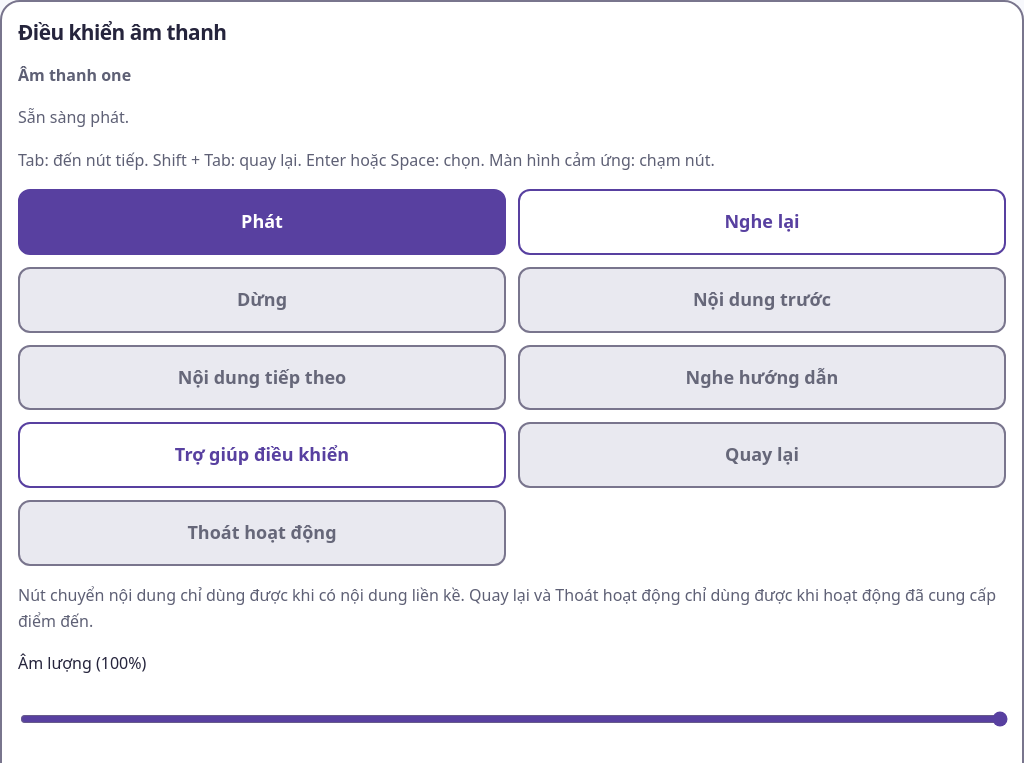
it: keeps focus and exposes busy state while loading; stop cancels the source
Press Tab
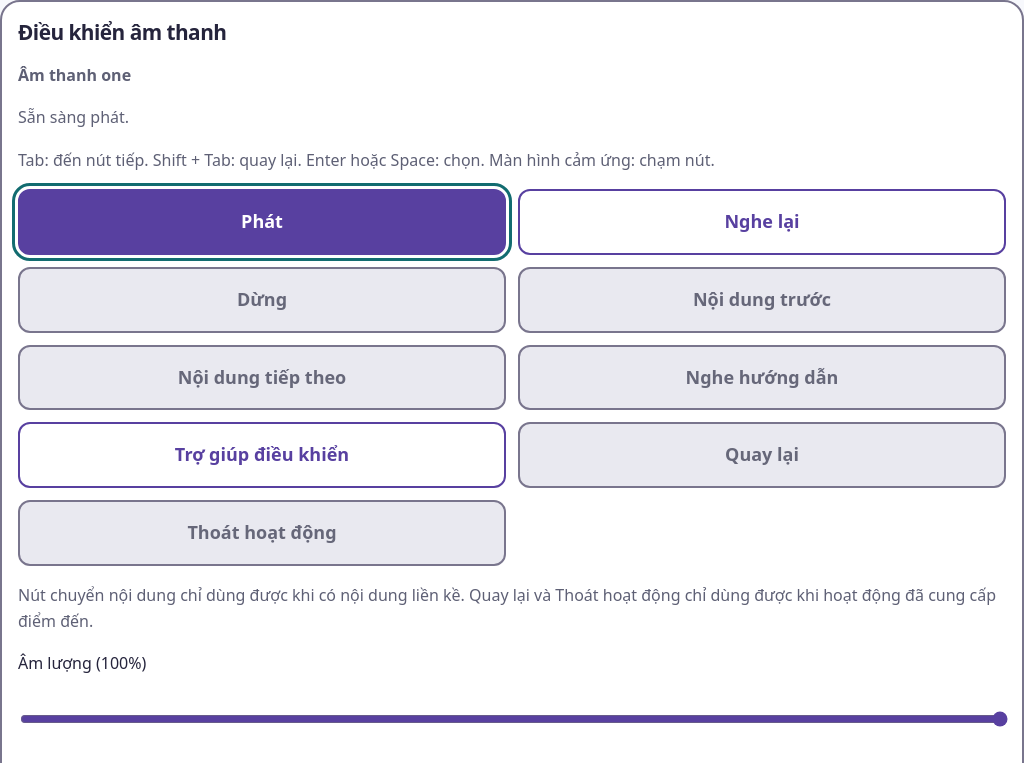
Press Enter
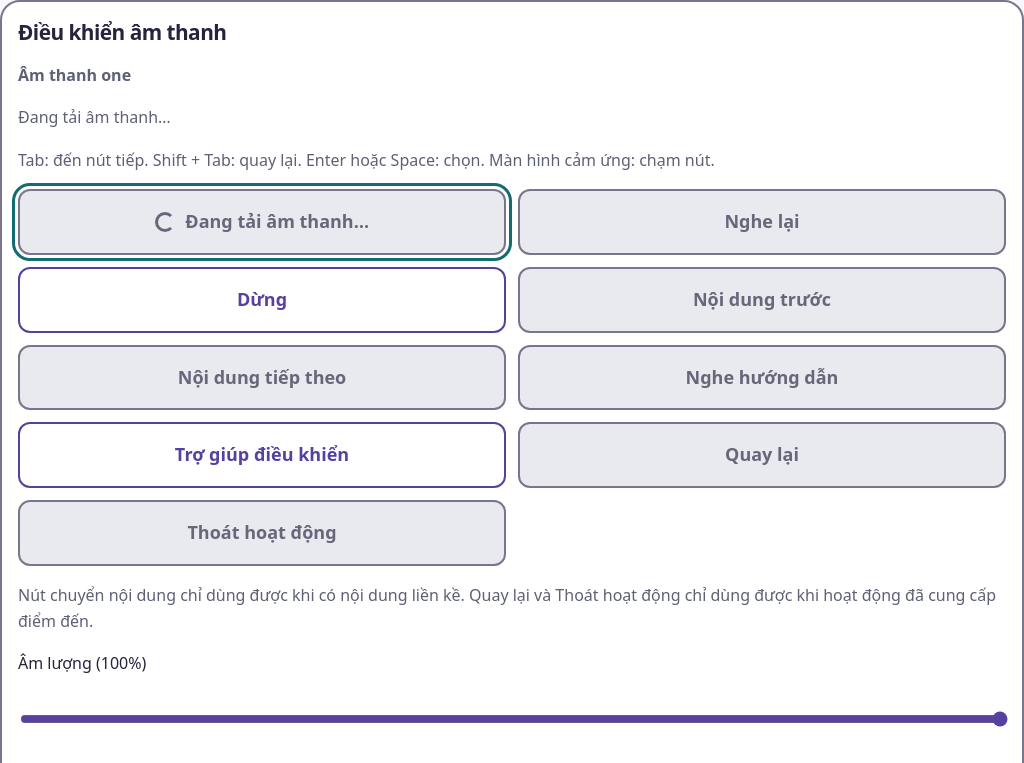
Expected: the button "Đang tải âm thanh…" has attribute aria-busy="true", [18,189,506,255]
Click the button "Dừng".
click(262, 300)  # box [18,267,506,333]
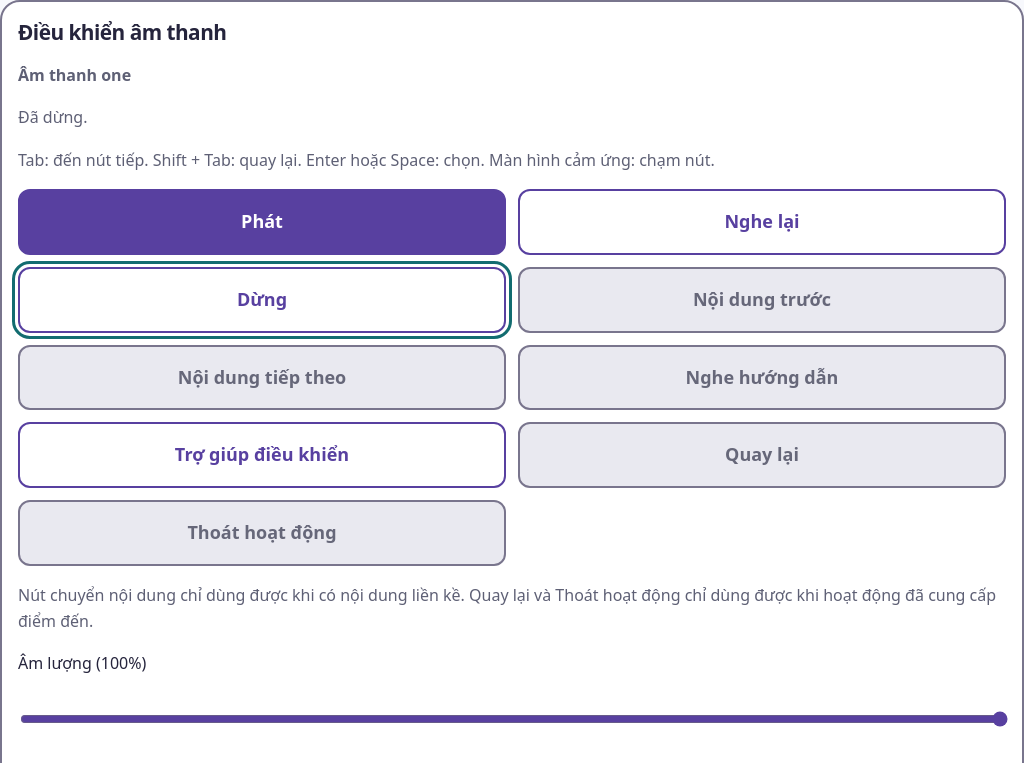
Expected: the message named "Trạng thái âm thanh" reads "Đã dừng.", [18,106,88,128]
